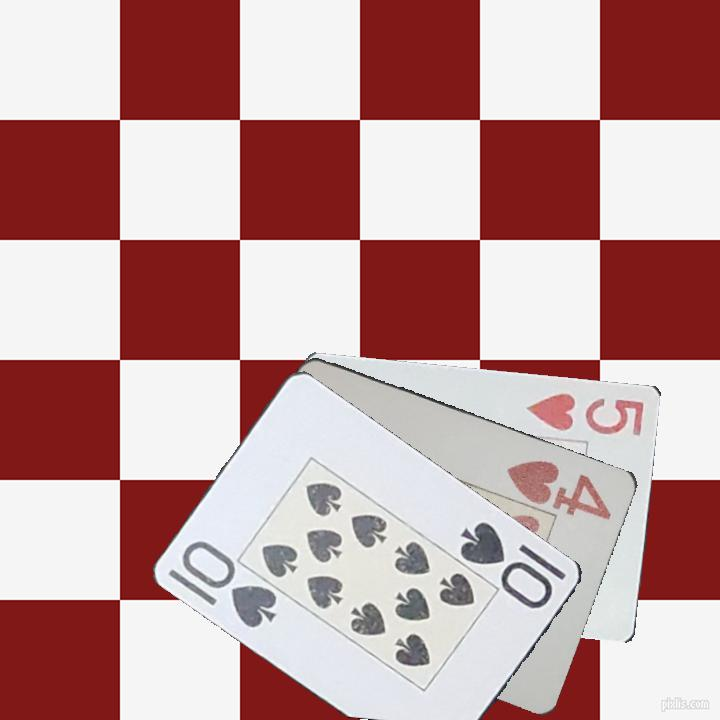4h: (504, 456, 615, 522)
5h: (522, 389, 648, 439)
Ts: (165, 537, 281, 631), (456, 517, 570, 612)
